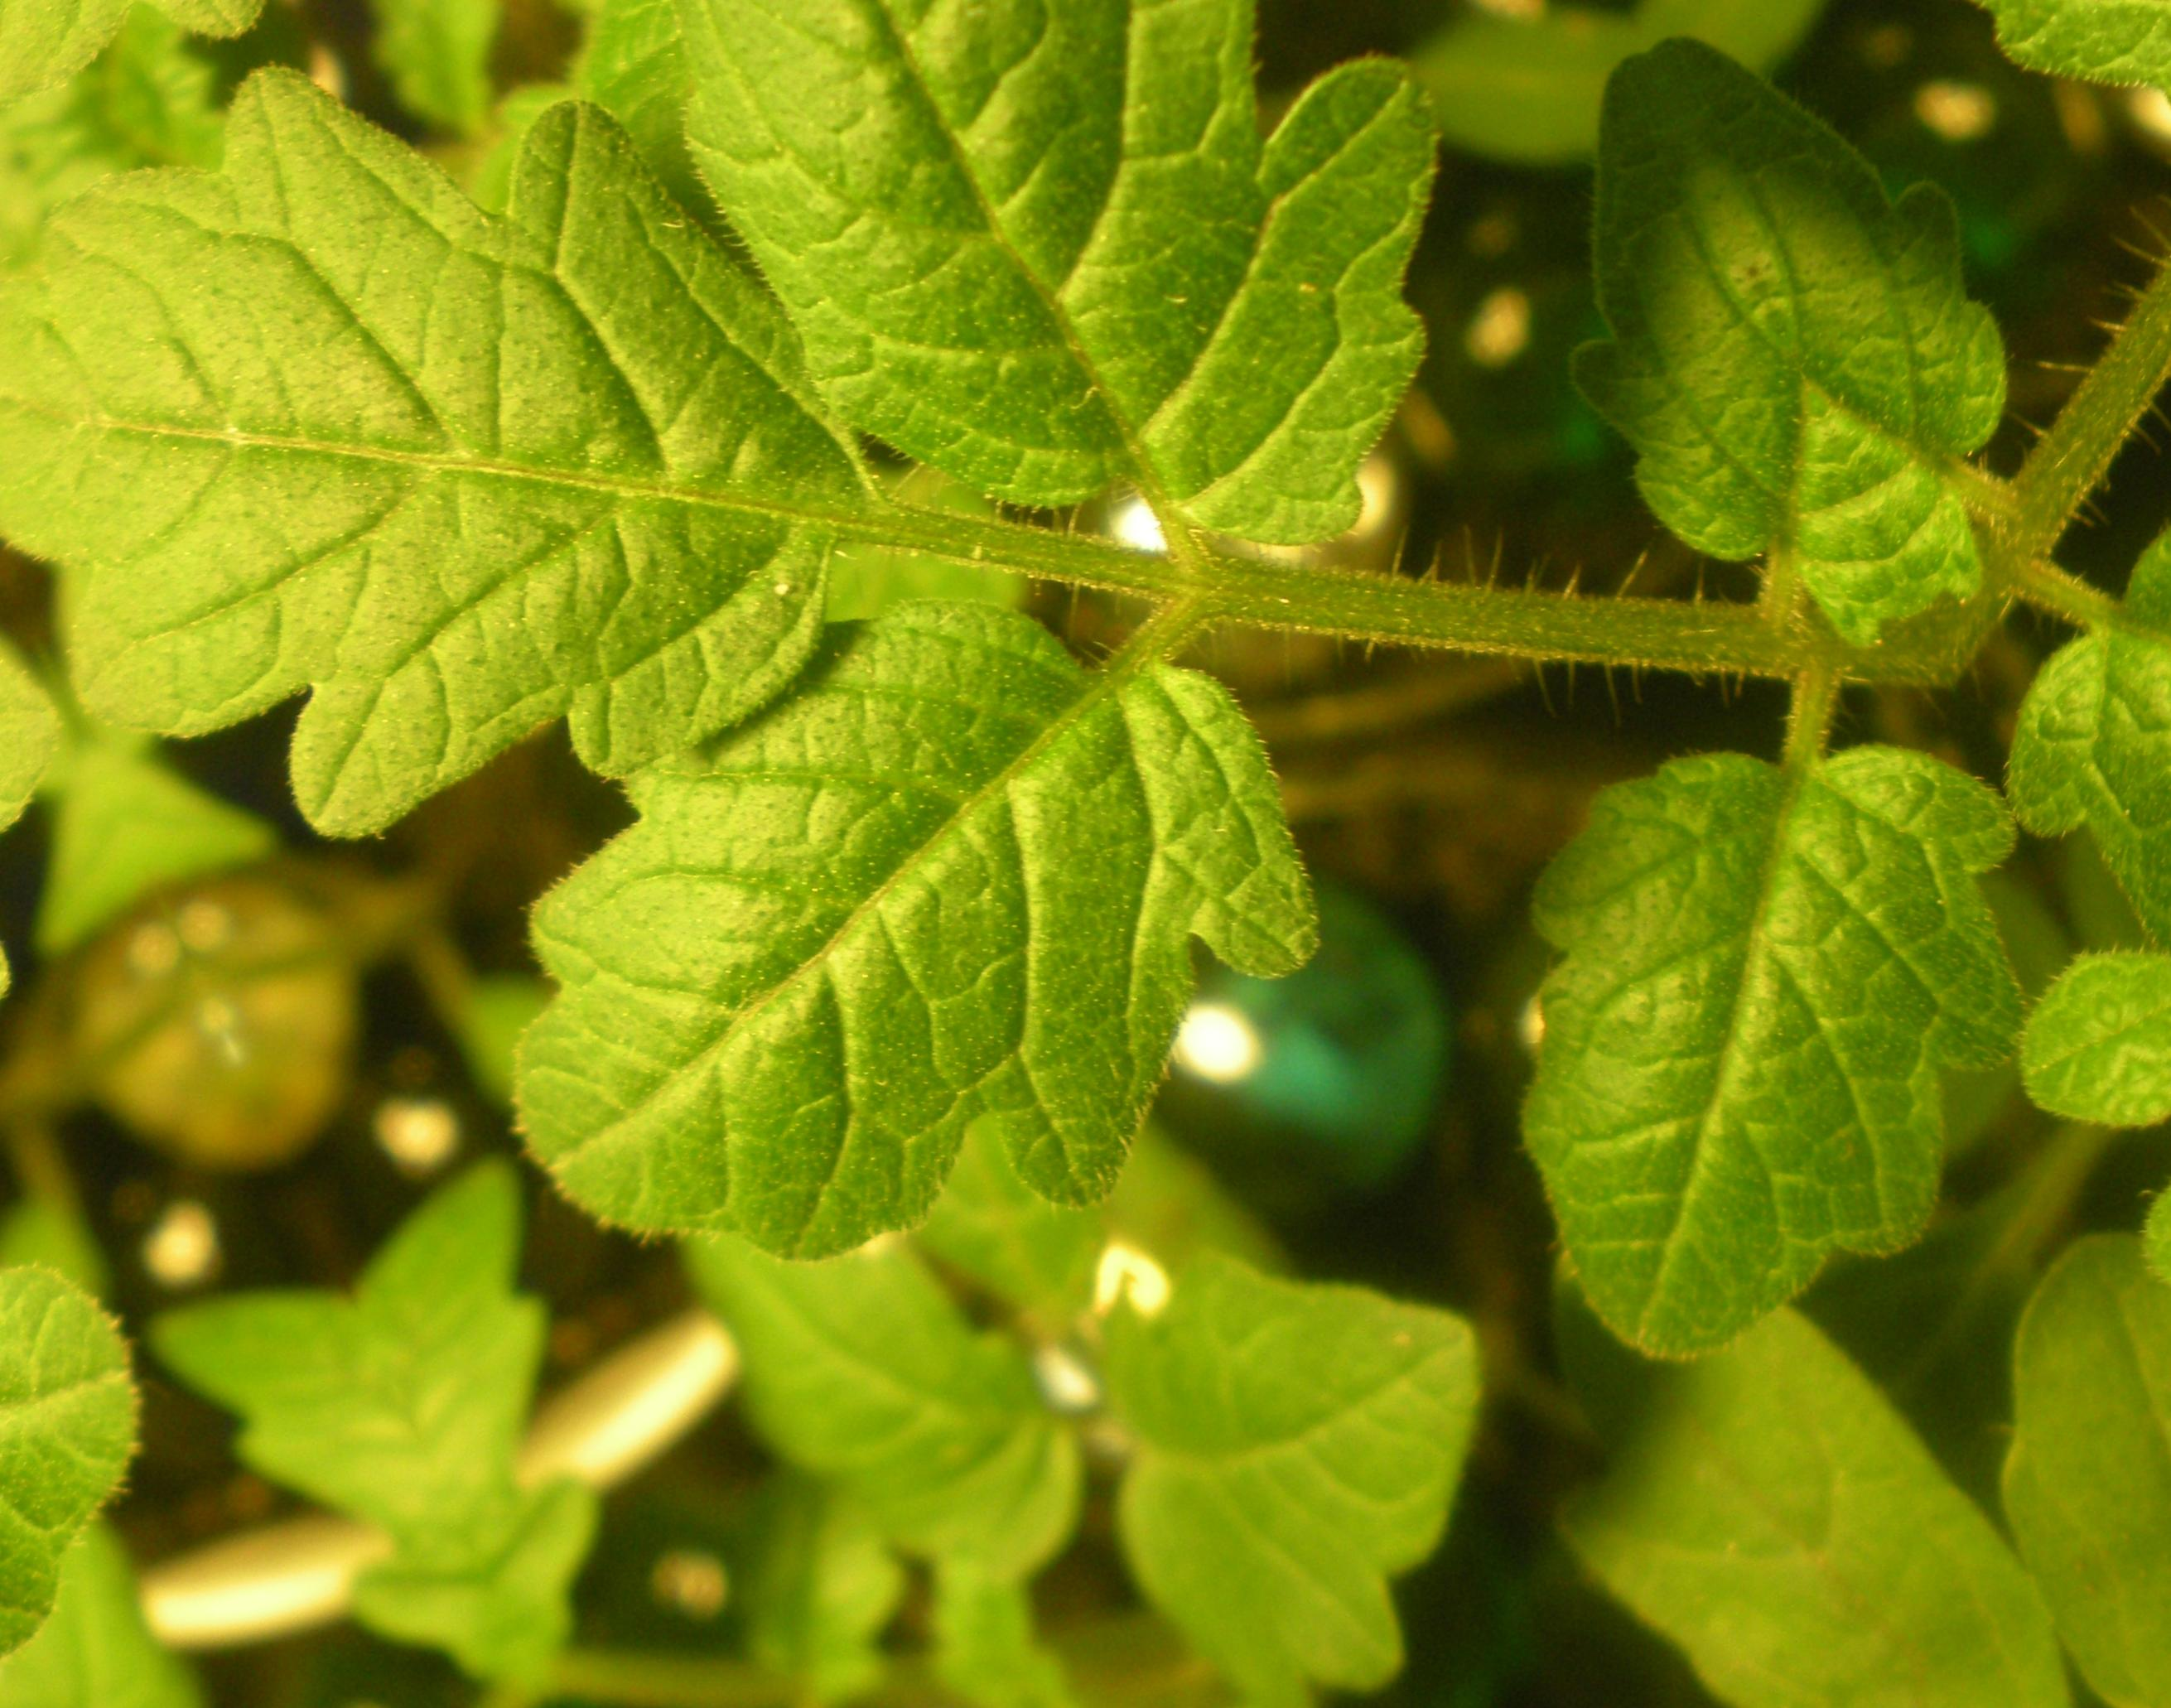Tomato leaf: (346, 418, 1491, 1425), (0, 0, 969, 967), (1310, 594, 2143, 1467), (585, 0, 1578, 728), (1373, 0, 1927, 736), (990, 1108, 1612, 1708), (618, 1101, 1131, 1679), (309, 1122, 726, 1701)
